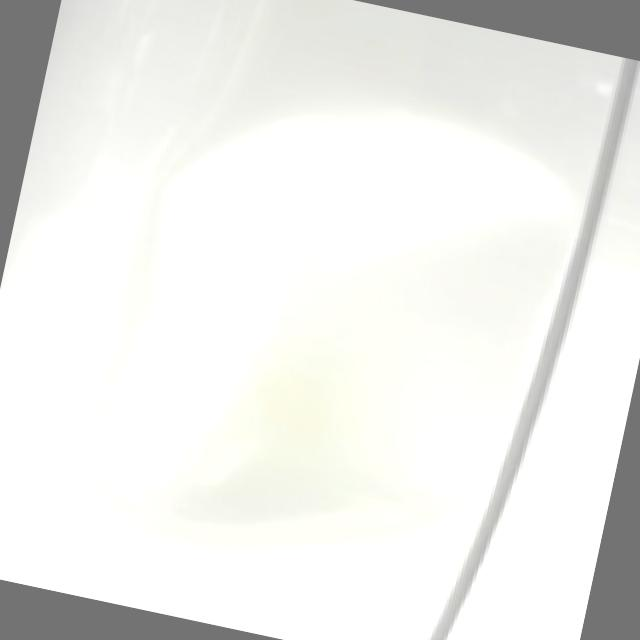dent: (84, 63, 596, 604)
